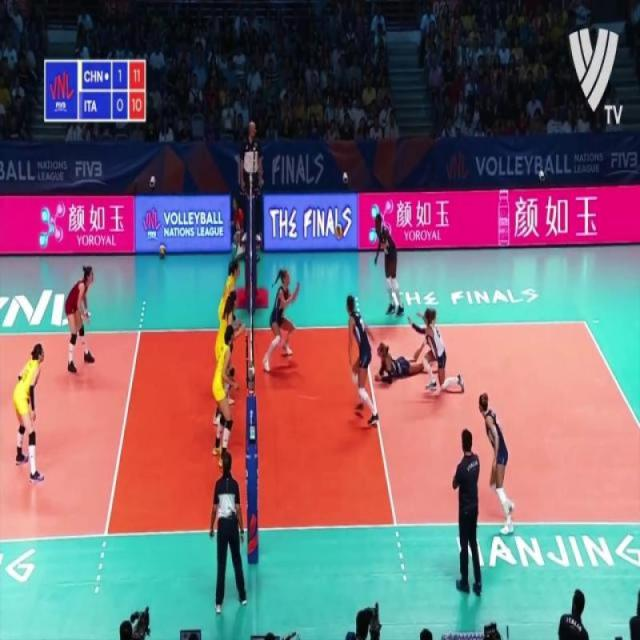volleyball: (157, 241, 168, 259), (336, 223, 344, 242)
